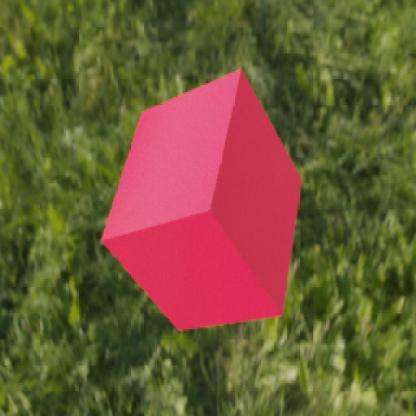cube: (100, 68, 302, 330)
